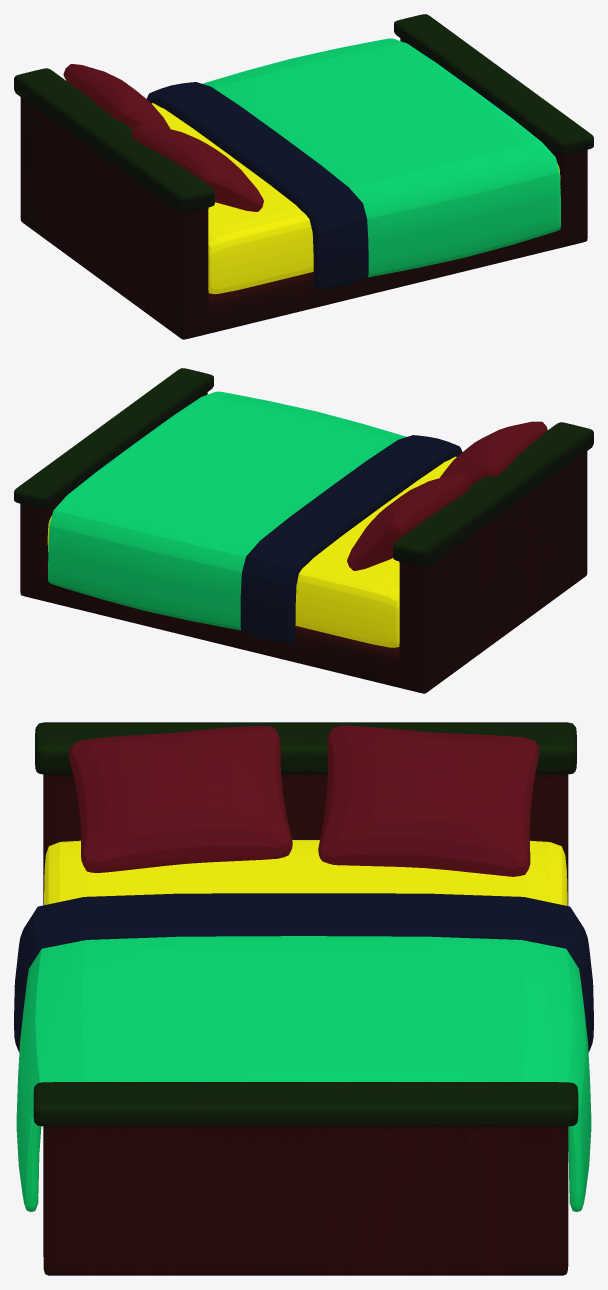
File: bed.glb
The picture shows the model from 3 angles, top to bottom: view 1: azimuth 30°, elevation 25°; view 2: azimuth 150°, elevation 25°; view 3: azimuth 270°, elevation 25°; orthographic projection. The views are drawn at different scales.
Visible parts, largest first — view 1: room1_bed, room1_bed_blanket; view 2: room1_bed, room1_bed_blanket; view 3: room1_bed, room1_bed_blanket.
Part boxes in pixels (bbox=[...]): room1_bed: bbox=[14, 14, 593, 339]; room1_bed_blanket: bbox=[146, 38, 560, 289]; room1_bed: bbox=[14, 368, 593, 693]; room1_bed_blanket: bbox=[48, 391, 462, 643]; room1_bed: bbox=[33, 722, 578, 1275]; room1_bed_blanket: bbox=[14, 893, 593, 1211].
Size of the model in its own units: 6.86 by 2.56 by 5.16.
2 materials, 2 textured.
